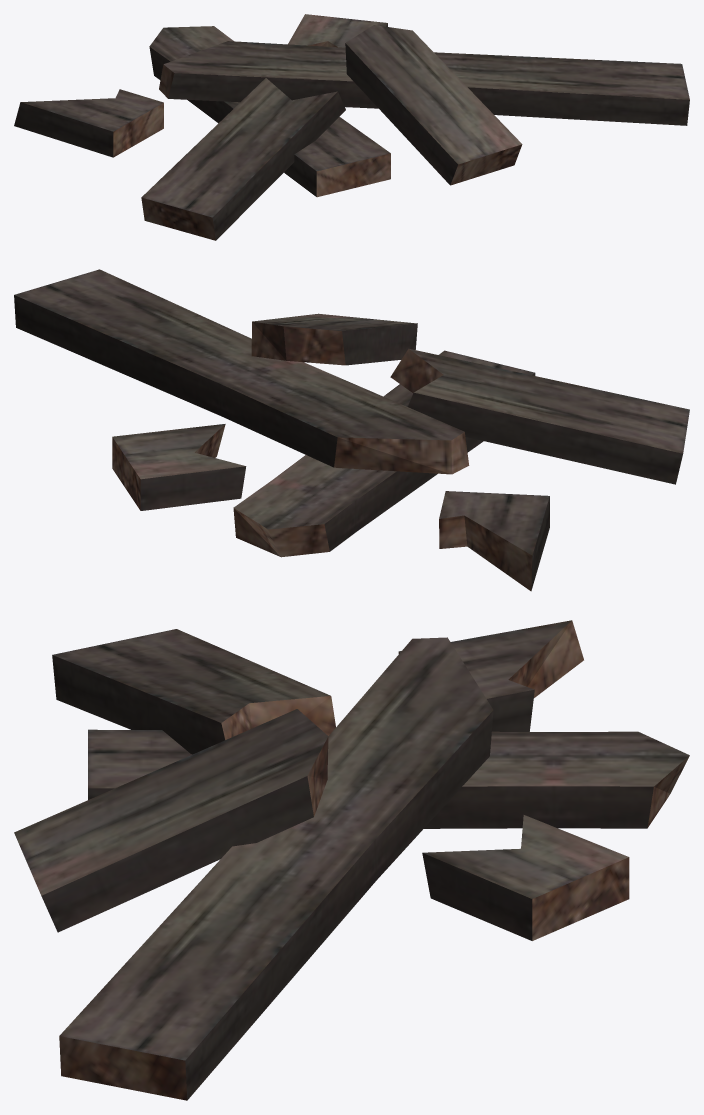
3 views of the same model, one above another, from view 1: azimuth 30°, elevation 25°; view 2: azimuth 150°, elevation 25°; view 3: azimuth 270°, elevation 25° (orthographic). The views are drawn at different scales.
Visible parts, largest first — view 1: object75; view 2: object75; view 3: object75.
Part boxes in pixels (x1,y1,x2,y2): object75: (14,14,689,240); object75: (14,269,689,591); object75: (14,620,689,1100).
Bounding box in the file's own units: 252 × 42.83 × 167.
Materials: 2 (2 with a texture image).
